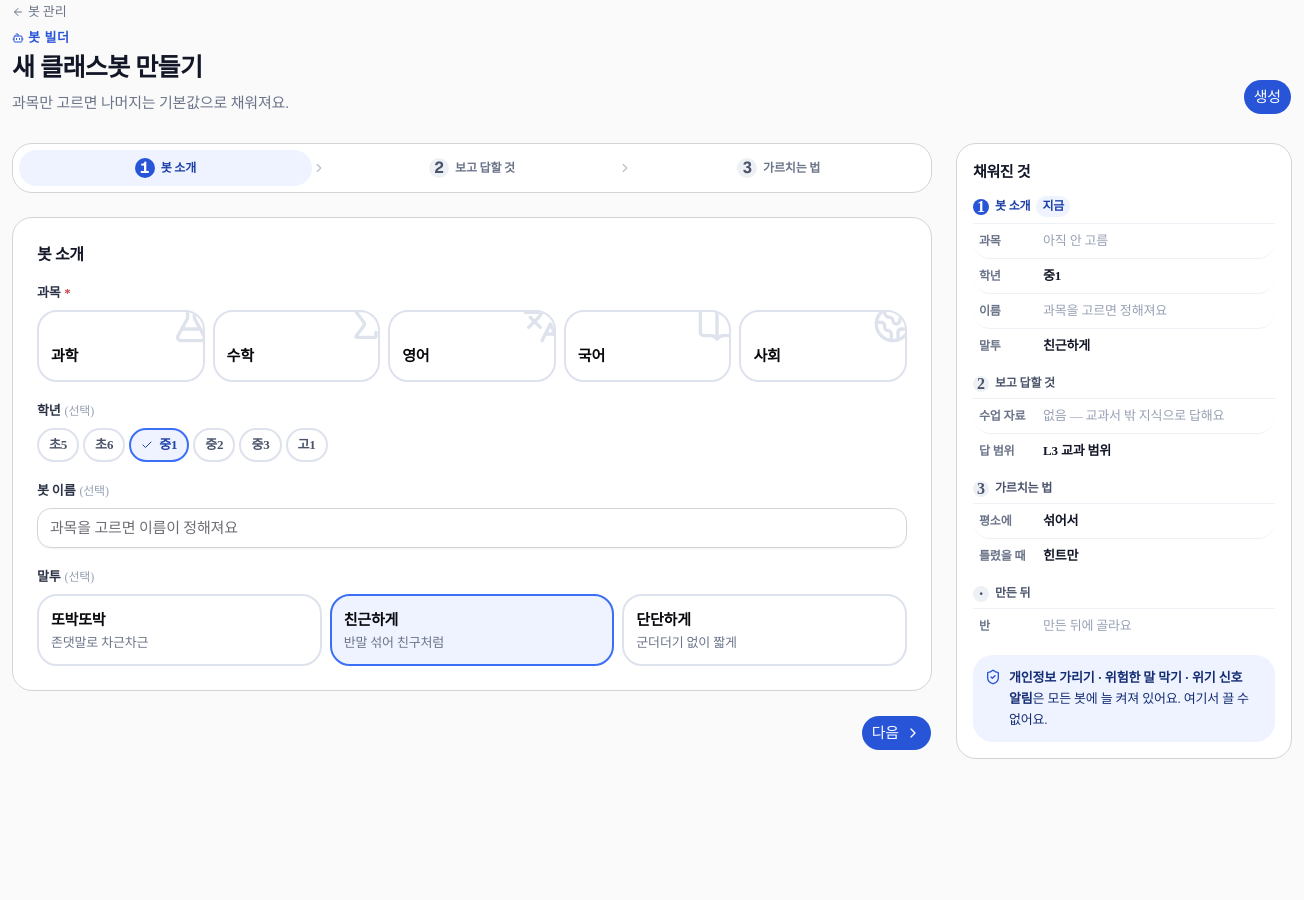
Test: 과목은 기본값이 없다 › 이름이 한 글자면 막히고 왜 막혔는지 말한다
Click the radio button labelled "과학" at (121,346), box [37, 310, 205, 382]
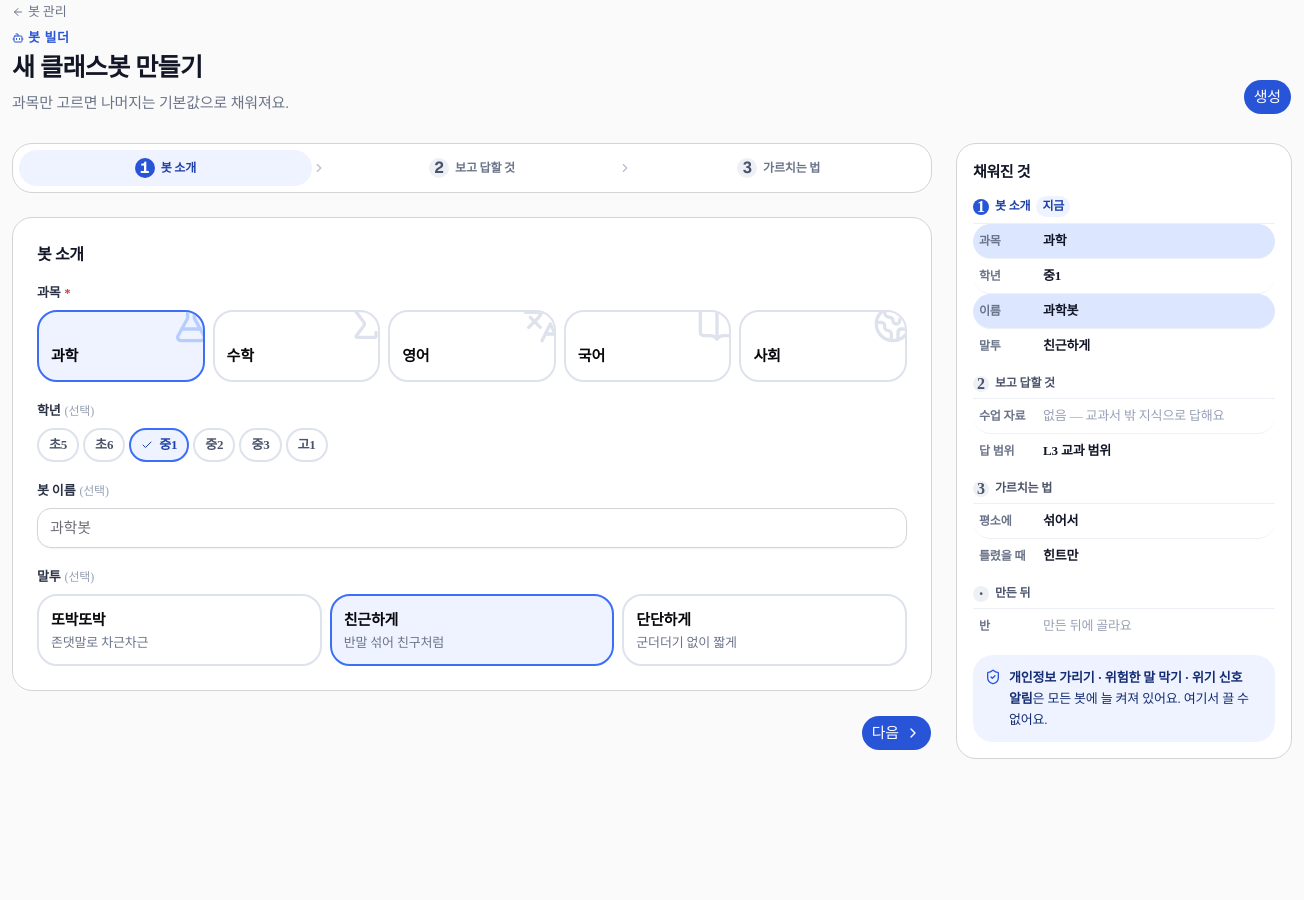
Type "봇" into the field labelled "봇 이름 (선택)" at (472,528), box [37, 508, 907, 548]
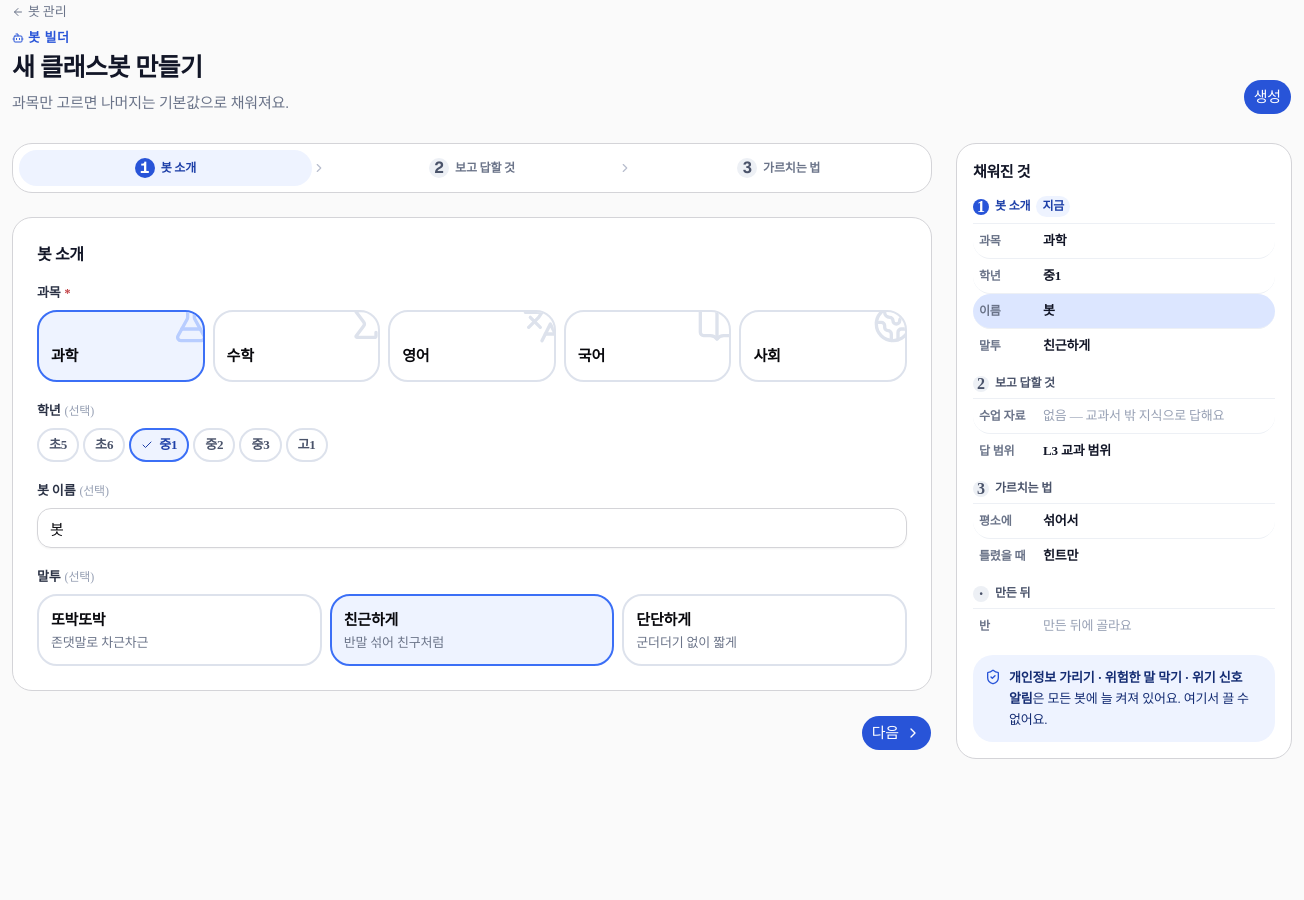
Click the button with aria-label "채운 그대로 봇 생성하기" at (1267,97), box [1243, 79, 1292, 115]
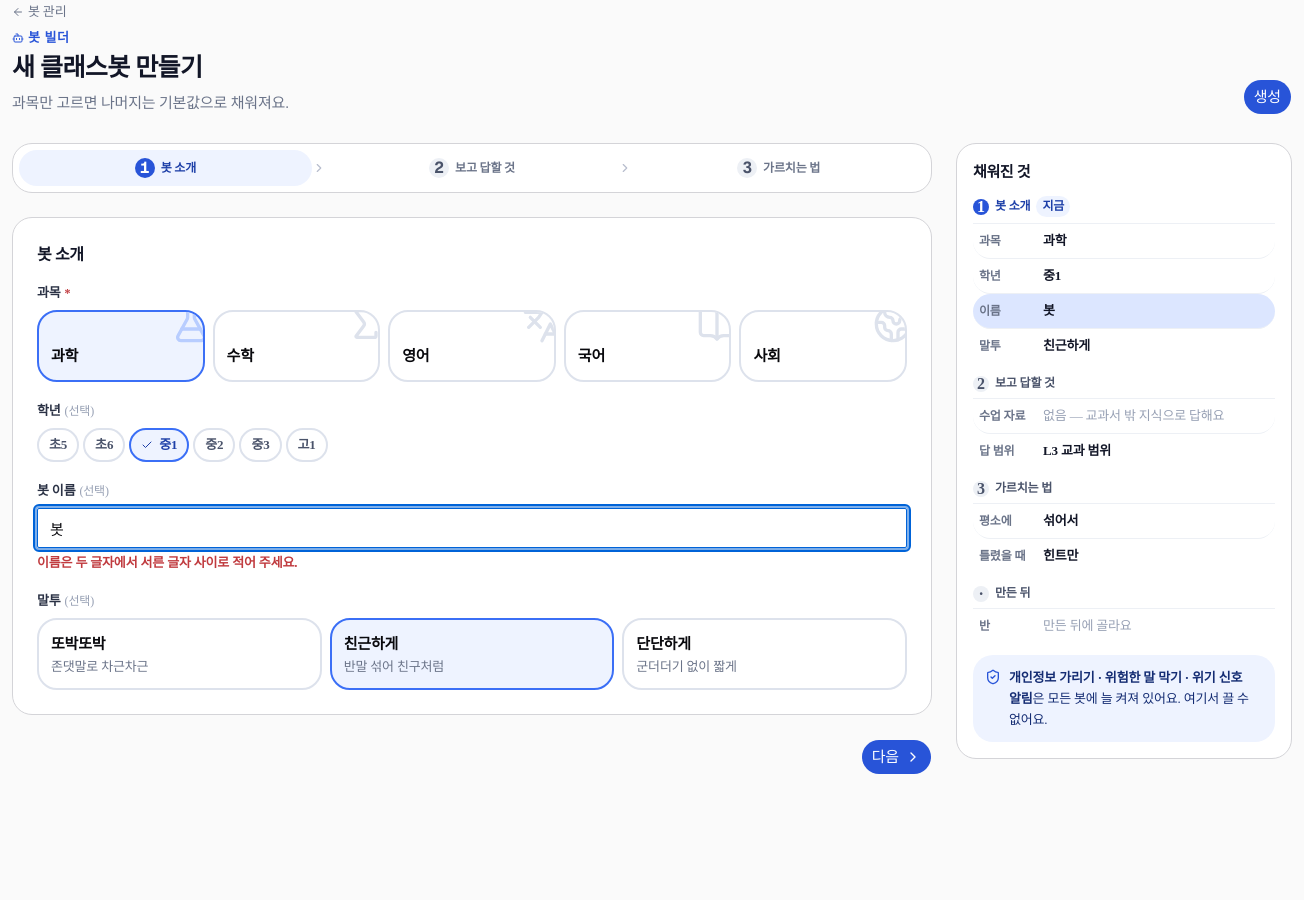
Expected: the message shows "이름은 두 글자에서 서른 글자 사이로", [37, 555, 297, 570]
